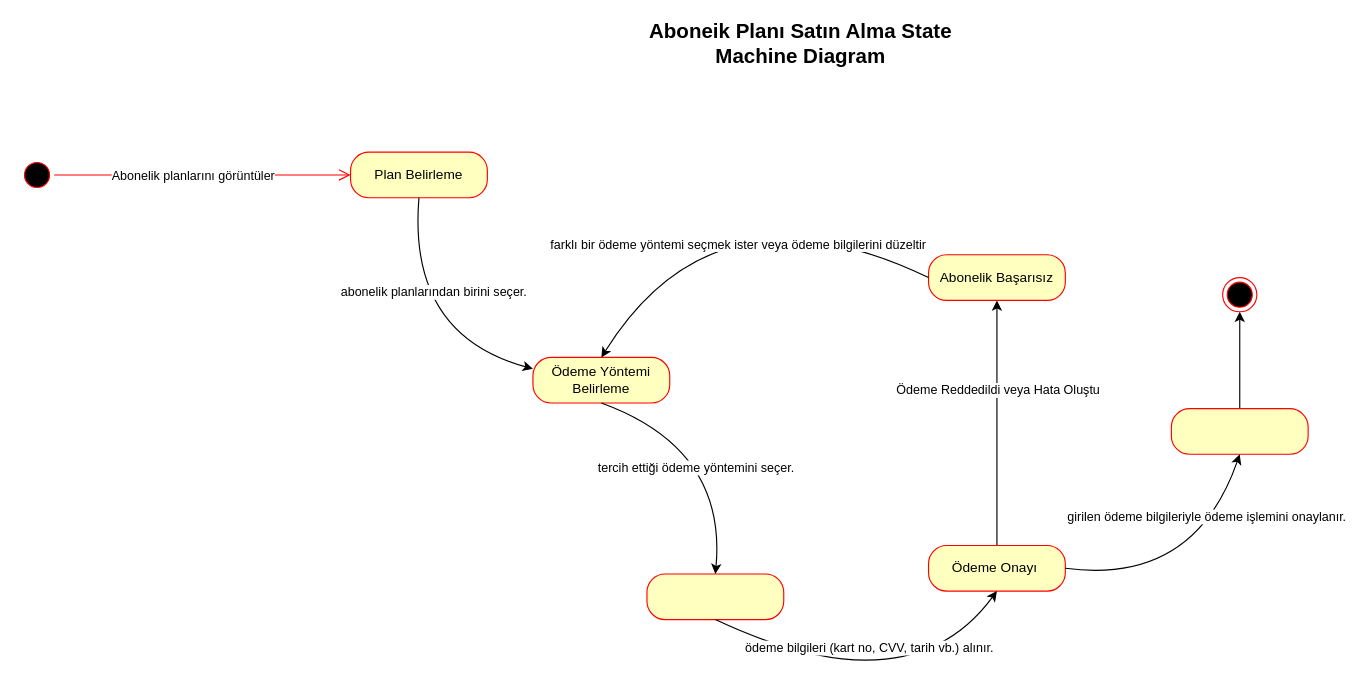
This 1366x681 diagram has some shape labels left out. Here are the shapes that lost their labels. From the top down, the centre of each, then its label:
pixel 1239 431: Abonelik Aktif
pixel 715 596: Ödeme
